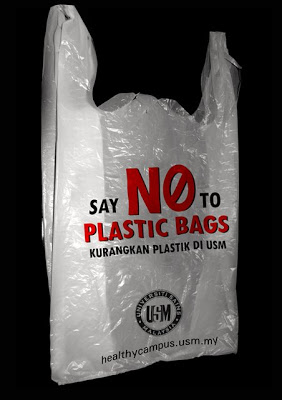kantong: (40, 5, 241, 384)
